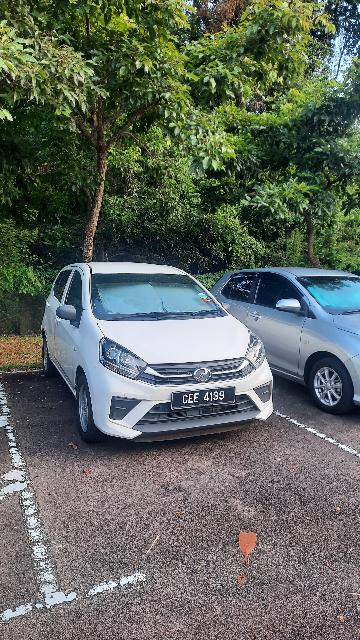License_Plate: (168, 387, 240, 412)
car: (41, 261, 278, 447)
